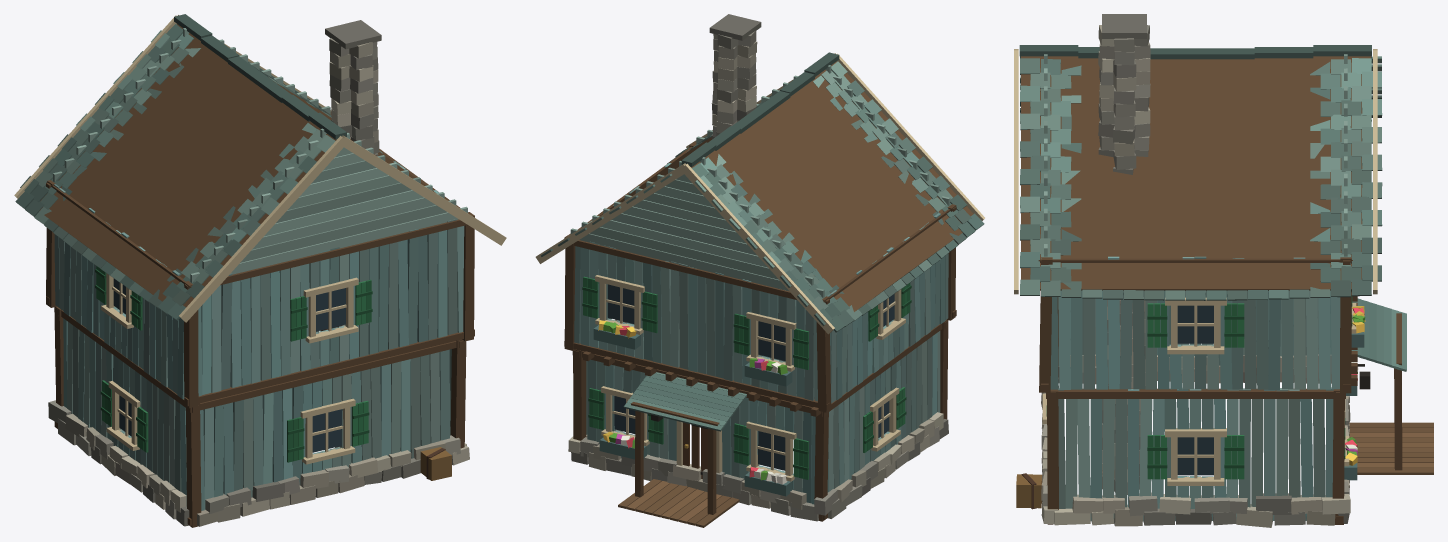
File: sobrado_1.glb
The picture shows the model from 3 angles, left to right: view 1: azimuth 30°, elevation 25°; view 2: azimuth 150°, elevation 25°; view 3: azimuth 270°, elevation 25°; orthographic projection. The views are drawn at different scales.
Parts seen in each view (by area): view 1: Madeira, Telhado, Pedra, Vidro; view 2: Madeira, Telhado, Pedra, Vidro; view 3: Madeira, Telhado, Pedra, Vidro.
Boxes of the visible parts, x1,y1,x2,y2 form: Madeira: (14,15,506,527); Telhado: (15,14,346,320); Pedra: (48,20,469,526); Vidro: (113,278,345,452); Madeira: (535,53,984,527); Telhado: (541,52,984,431); Pedra: (568,14,948,521); Vidro: (607,284,894,470); Madeira: (1014,49,1433,524); Telhado: (1019,45,1406,371); Pedra: (1041,14,1365,527); Vidro: (1177,305,1213,475).
Bounding box in the file's own units: 8.72 × 10.7 × 8.82.
